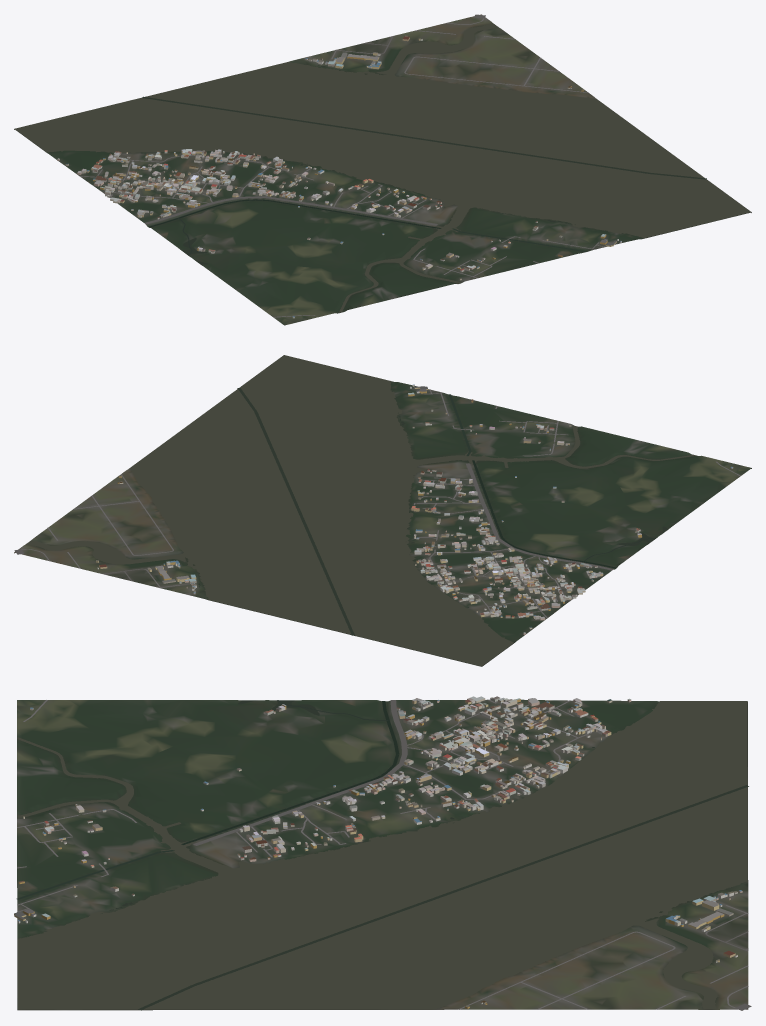
The picture shows the model from 3 angles, top to bottom: view 1: azimuth 30°, elevation 25°; view 2: azimuth 150°, elevation 25°; view 3: azimuth 270°, elevation 25°; orthographic projection. The views are drawn at different scales.
Visible parts, largest first — view 1: water, ground, buildings, roads; view 2: water, ground, buildings, roads; view 3: water, ground, buildings, roads.
Part boxes in pixels (x1=…): water: x1=15, y1=23, x2=750, y2=312; ground: x1=14, y1=14, x2=751, y2=325; buildings: x1=57, y1=35, x2=621, y2=318; roads: x1=79, y1=14, x2=605, y2=317; water: x1=26, y1=355, x2=696, y2=666; ground: x1=14, y1=355, x2=751, y2=666; buildings: x1=96, y1=384, x2=733, y2=634; roads: x1=14, y1=389, x2=740, y2=618; water: x1=16, y1=700, x2=748, y2=1010; ground: x1=17, y1=699, x2=748, y2=1010; buildings: x1=14, y1=696, x2=742, y2=1008; roads: x1=17, y1=699, x2=751, y2=1010.
Bounding box in the file's own units: 1413 × 15.88 × 1414.
